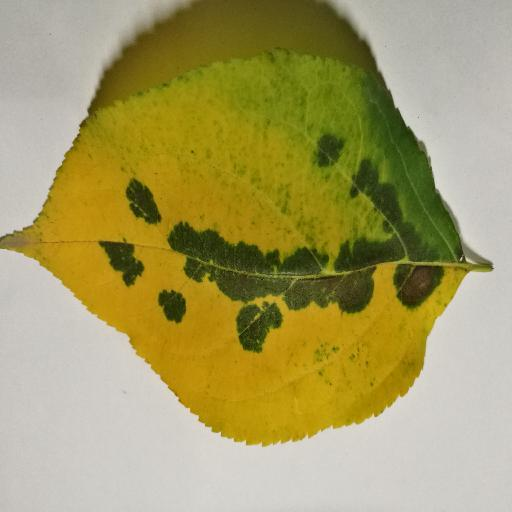Brown_Spot: (396, 260, 456, 306), (318, 275, 371, 318)
